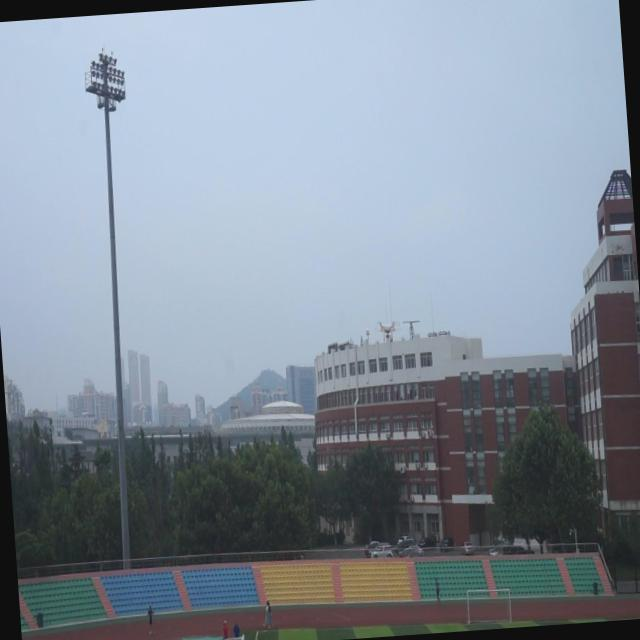drone: (376, 315, 396, 338)
